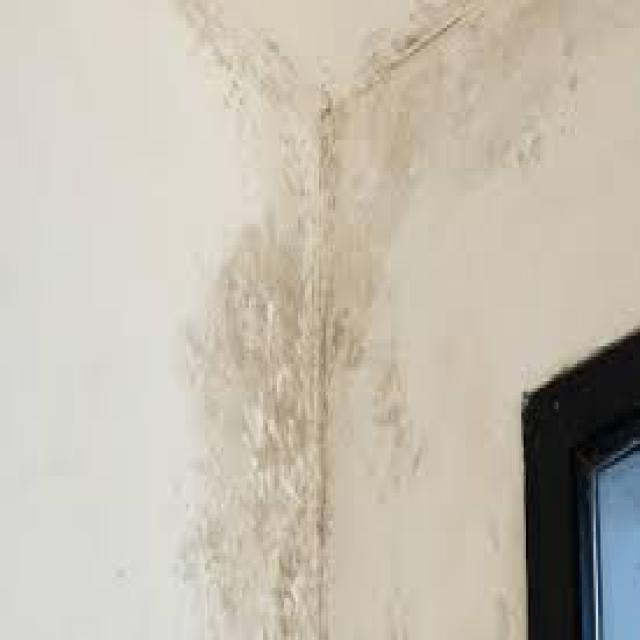stain_mould: (183, 1, 639, 639)
